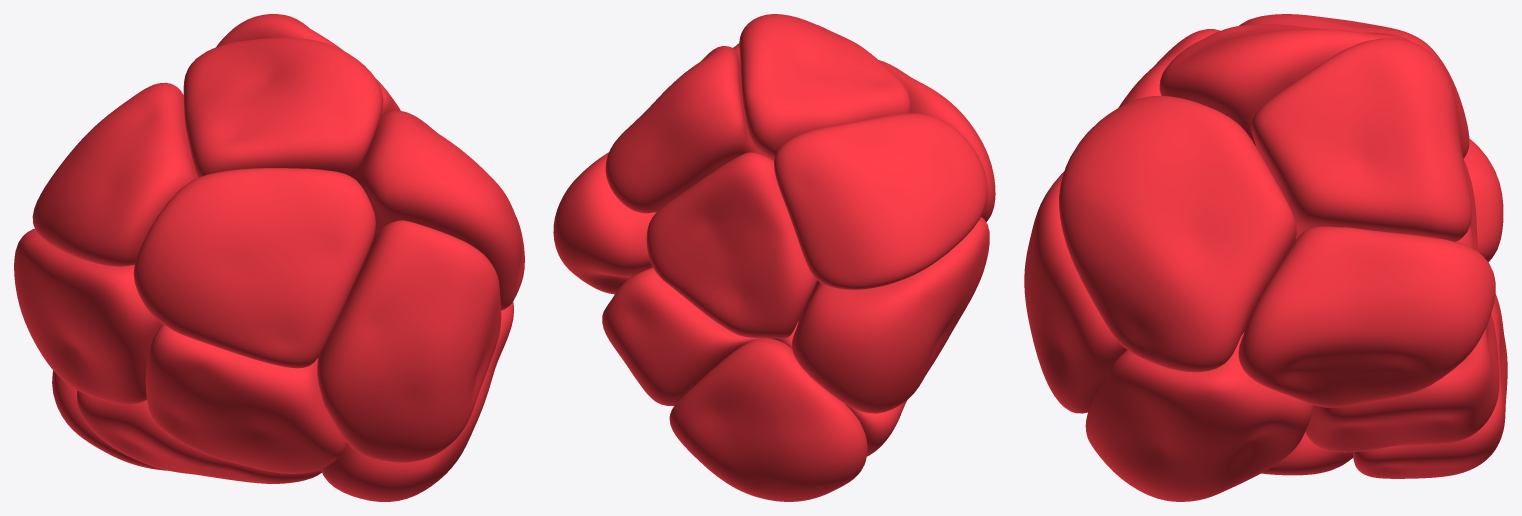
3 views of the same model, side by side, from view 1: azimuth 30°, elevation 25°; view 2: azimuth 150°, elevation 25°; view 3: azimuth 270°, elevation 25° (orthographic). The views are drawn at different scales.
Visible parts, largest first — view 1: a3.002, a3.004, a3.010, a3.008, a3.003, a3.011, a3.012, a3.007, a3.013, a3.009, a3.014; view 2: a3.003, a3.014, a3.006, a3.011, a3.010, a3.009, a3.001, a3.005, a3.002, a3.007; view 3: a3.012, a3.005, a3.009, a3.013, a3.010, a3.004, a3.001, a3.014, a3.011, a3.003, a3.007, a3.002 (+1 smaller).
Part boxes in pixels (x1,y1,x2,y2): a3.002: (133, 168, 375, 368); a3.004: (317, 220, 501, 462); a3.010: (183, 37, 383, 177); a3.008: (145, 324, 346, 473); a3.003: (32, 82, 197, 266); a3.011: (14, 228, 162, 404); a3.012: (352, 110, 524, 310); a3.007: (77, 390, 321, 483); a3.013: (320, 302, 513, 501); a3.009: (216, 14, 400, 115); a3.014: (52, 370, 168, 470); a3.003: (774, 113, 987, 289); a3.014: (669, 338, 867, 501); a3.006: (646, 152, 817, 338); a3.011: (792, 217, 989, 413); a3.010: (739, 14, 910, 160); a3.009: (605, 46, 759, 213); a3.001: (602, 267, 769, 405); a3.005: (553, 152, 656, 294); a3.002: (879, 60, 995, 222); a3.007: (771, 321, 907, 456); a3.012: (1059, 96, 1296, 372); a3.005: (1238, 226, 1495, 407); a3.009: (1251, 38, 1471, 241); a3.013: (1085, 332, 1313, 501); a3.010: (1159, 24, 1410, 146); a3.004: (1024, 171, 1126, 413); a3.001: (1305, 314, 1499, 452); a3.014: (1353, 294, 1507, 478); a3.011: (1464, 138, 1503, 262); a3.003: (1239, 14, 1469, 158); a3.007: (1261, 432, 1353, 475); a3.002: (1118, 29, 1220, 107).
Size of the model in its own units: 4022 by 4154 by 3812.
